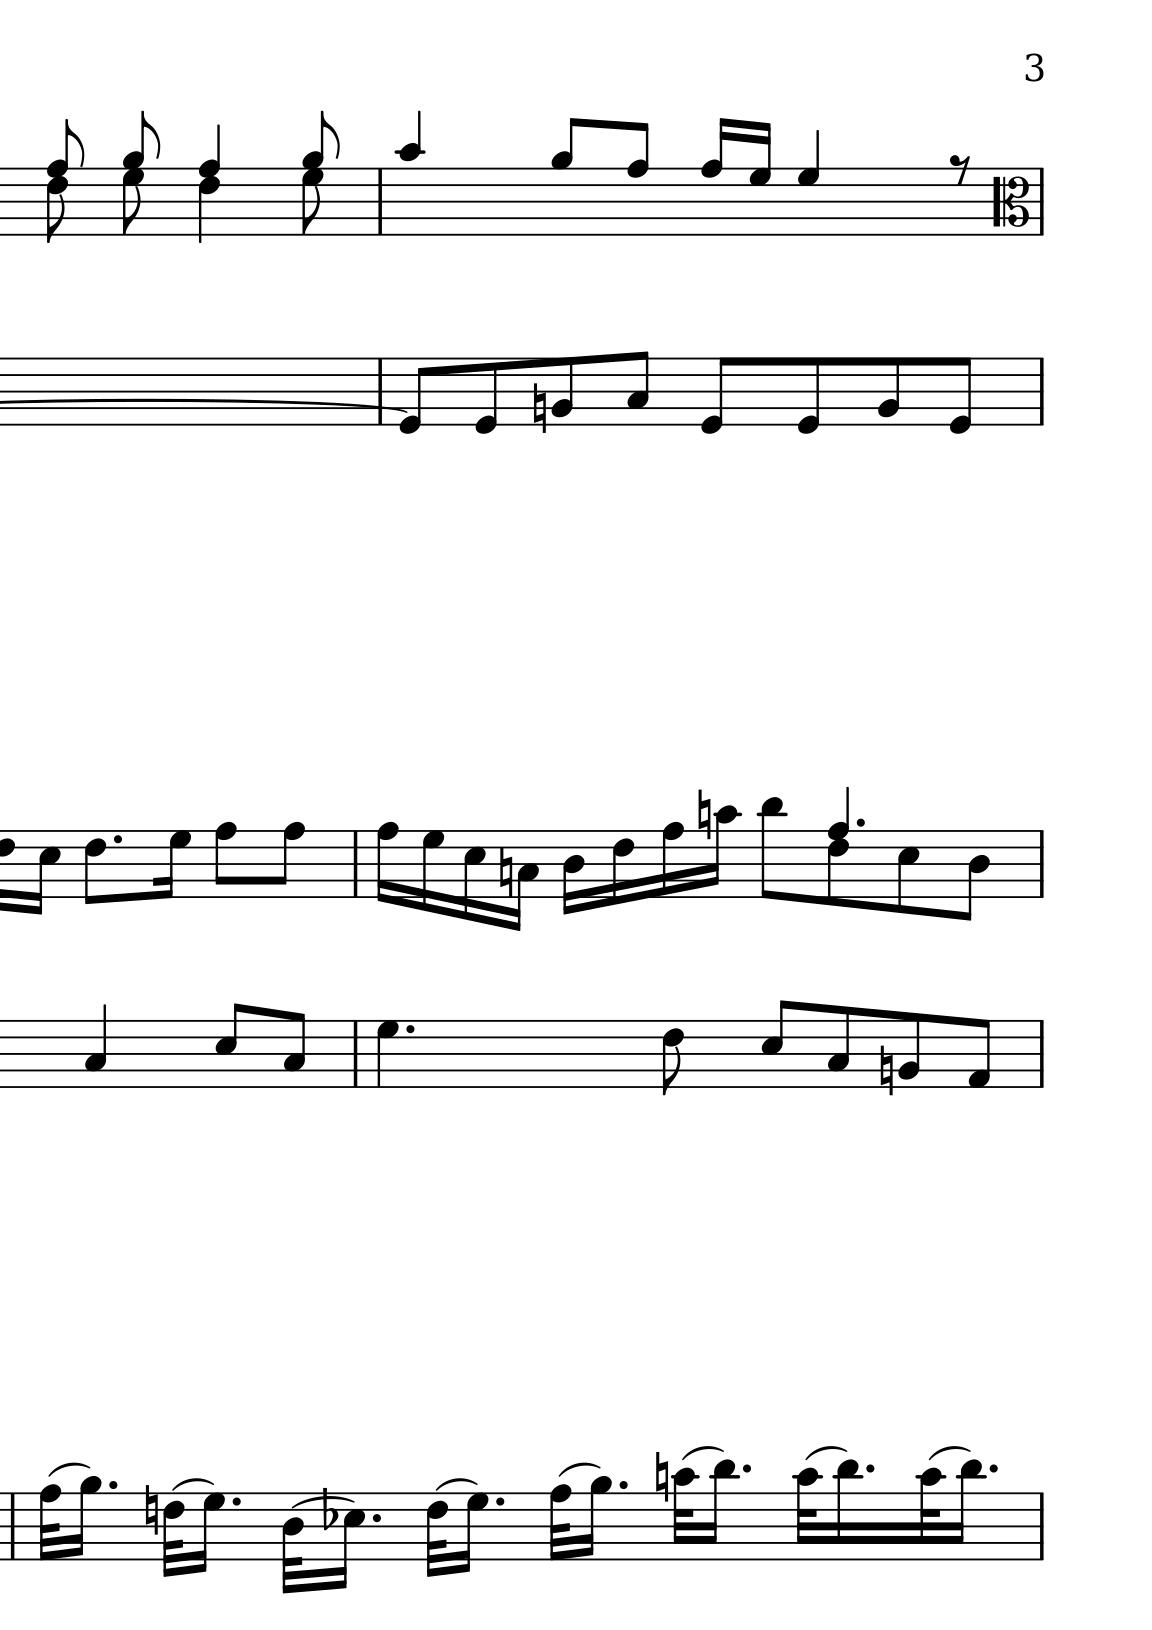16_10: (704, 804, 741, 901)
16_11: (948, 1458, 982, 1564), (704, 1458, 737, 1561), (832, 1458, 862, 1561)
16_3: (510, 829, 539, 933)
16_4: (560, 827, 583, 916)
16_5: (332, 1492, 367, 1591), (27, 827, 60, 918), (461, 827, 485, 923)
16_6: (610, 827, 635, 907)
16_7: (190, 1490, 224, 1576), (454, 1490, 487, 1576), (152, 829, 191, 902), (419, 827, 444, 915)
16_8: (374, 820, 398, 905), (660, 821, 684, 901)
16_9: (69, 1474, 100, 1564)
3: (1024, 51, 1045, 83)
32_10: (914, 1464, 946, 1564), (790, 1466, 822, 1561), (670, 1468, 694, 1564)
32_6: (279, 1490, 304, 1595), (161, 1490, 185, 1579), (424, 1490, 448, 1579)
32_8: (547, 1483, 572, 1561), (36, 1483, 60, 1561)
32_9: (581, 1474, 611, 1564)
4_10: (396, 110, 423, 237)
4_3: (82, 1002, 108, 1090)
4_7: (795, 130, 820, 237), (374, 1019, 399, 1089)
8_0: (396, 356, 430, 435), (698, 356, 731, 436), (794, 355, 822, 437), (946, 355, 974, 437), (473, 356, 499, 436)
8_1: (964, 1017, 991, 1090)
8_11: (756, 796, 787, 903)
8_2: (896, 1011, 923, 1090), (875, 355, 901, 427), (549, 355, 574, 427)
8_3: (825, 1004, 852, 1090), (623, 349, 650, 427), (281, 1009, 305, 1090)
8_4: (958, 829, 990, 923)
8_5: (758, 997, 792, 1089), (213, 1001, 244, 1090), (894, 827, 920, 916)
8_6: (81, 829, 106, 908), (660, 1019, 684, 1095)
8_6_8: (45, 118, 86, 243), (198, 125, 221, 244)
8_7: (747, 120, 772, 237)
8_7_9: (122, 111, 163, 237), (300, 110, 340, 239)
8_8: (699, 115, 731, 239), (623, 118, 650, 238), (271, 820, 305, 898), (212, 821, 237, 900)
8_9: (549, 113, 578, 238)
Cclef: (990, 166, 1032, 237)
Flat: (319, 1485, 337, 1533)
Natural: (529, 383, 549, 436), (876, 1044, 895, 1098), (141, 1482, 158, 1538), (651, 1448, 670, 1500), (694, 788, 711, 841), (497, 846, 512, 898)
Rests8: (948, 152, 972, 186)
Single_barline: (1031, 1492, 1050, 1559), (347, 1021, 365, 1087), (1032, 358, 1050, 426), (372, 168, 389, 234), (347, 831, 364, 897), (1034, 167, 1050, 236), (1032, 1021, 1049, 1088), (372, 358, 388, 424), (1034, 830, 1049, 898), (4, 1493, 19, 1559)
Slur: (679, 1444, 726, 1463), (46, 1461, 92, 1478), (557, 1461, 603, 1478), (293, 1497, 357, 1509), (433, 1475, 479, 1492), (804, 1446, 849, 1462), (928, 1446, 972, 1462), (170, 1475, 214, 1492)
dot: (985, 1462, 1001, 1478), (491, 1493, 506, 1510), (108, 832, 125, 847), (227, 1495, 243, 1510), (738, 1462, 753, 1477), (615, 1478, 630, 1493), (401, 1023, 416, 1037), (862, 1462, 876, 1475), (368, 1512, 383, 1525), (853, 816, 866, 830), (103, 1479, 118, 1492)
